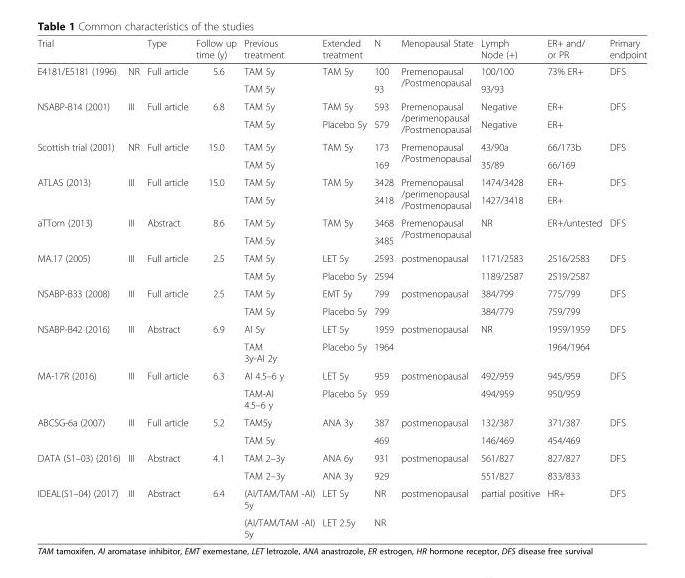table: (36, 37, 646, 539)
table column: (36, 37, 123, 539), (396, 37, 476, 539), (239, 37, 318, 539), (476, 37, 542, 539), (542, 37, 605, 539), (318, 37, 369, 539), (142, 37, 191, 539), (191, 37, 239, 539), (605, 37, 646, 539), (369, 37, 396, 539), (123, 37, 142, 539)
table column header: (36, 37, 646, 62)
table row: (36, 337, 646, 366), (36, 384, 646, 413), (36, 484, 646, 513), (36, 513, 646, 539), (36, 37, 646, 62), (36, 190, 646, 213), (36, 115, 646, 137), (36, 79, 646, 97), (36, 97, 646, 115), (36, 137, 646, 155), (36, 155, 646, 173), (36, 213, 646, 231), (36, 248, 646, 266), (36, 266, 646, 284), (36, 284, 646, 302), (36, 319, 646, 337), (36, 366, 646, 384), (36, 413, 646, 431), (36, 448, 646, 466), (36, 466, 646, 484), (36, 62, 646, 79), (36, 173, 646, 190), (36, 231, 646, 248), (36, 302, 646, 319), (36, 431, 646, 448)
table spanning cell: (36, 484, 123, 539), (396, 484, 476, 539), (36, 319, 123, 366), (36, 366, 123, 413), (396, 319, 476, 366), (396, 366, 476, 413), (36, 97, 123, 137), (36, 173, 123, 213), (396, 97, 476, 137), (396, 173, 476, 213), (36, 137, 123, 173), (36, 248, 123, 284), (36, 448, 123, 484), (36, 62, 123, 97), (36, 213, 123, 248), (36, 284, 123, 319), (36, 413, 123, 448), (396, 137, 476, 173), (396, 248, 476, 284), (396, 448, 476, 484), (396, 62, 476, 97), (396, 213, 476, 248), (396, 284, 476, 319), (396, 413, 476, 448)
